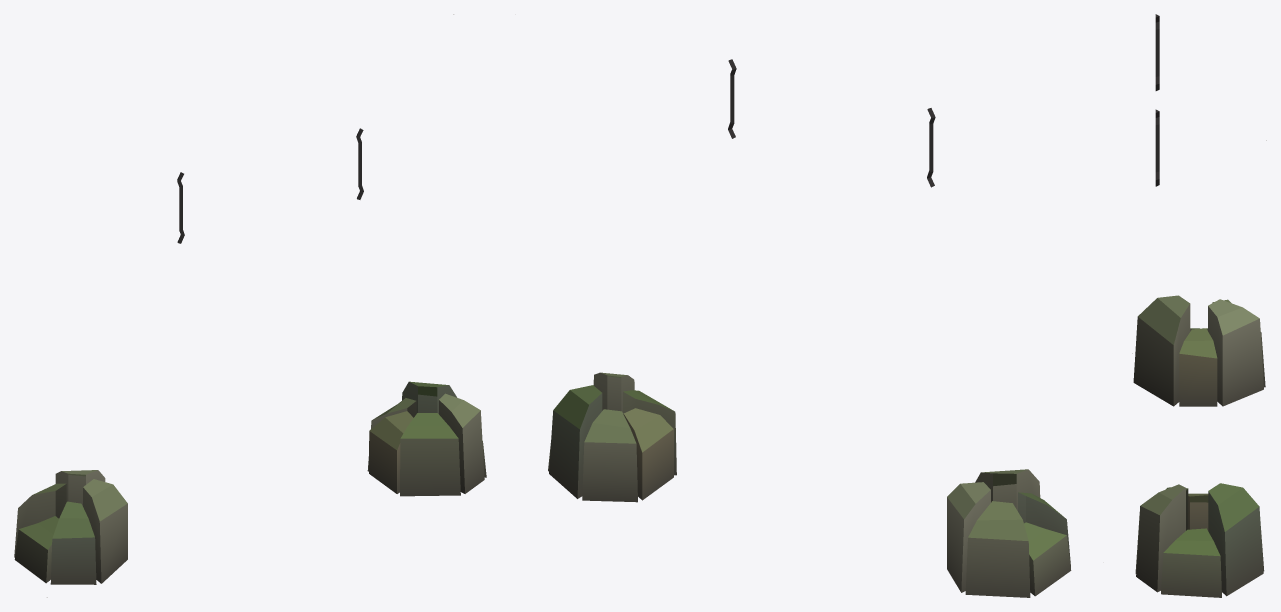
The model's file is CreekGateArch_stone.glb.
3 views of the same model, side by side, from view 1: azimuth 30°, elevation 25°; view 2: azimuth 150°, elevation 25°; view 3: azimuth 270°, elevation 25° (orthographic). The views are drawn at different scales.
Visible parts, largest first — view 1: CreekGateArch_stone; view 2: CreekGateArch_stone; view 3: CreekGateArch_stone.
Boxes of the visible parts, x1,y1,x2,y2 form: CreekGateArch_stone: (14,14,486,597); CreekGateArch_stone: (548,59,1071,597); CreekGateArch_stone: (1132,14,1266,597).
Size of the model in its own units: 14.13 by 12.22 by 3.22.
